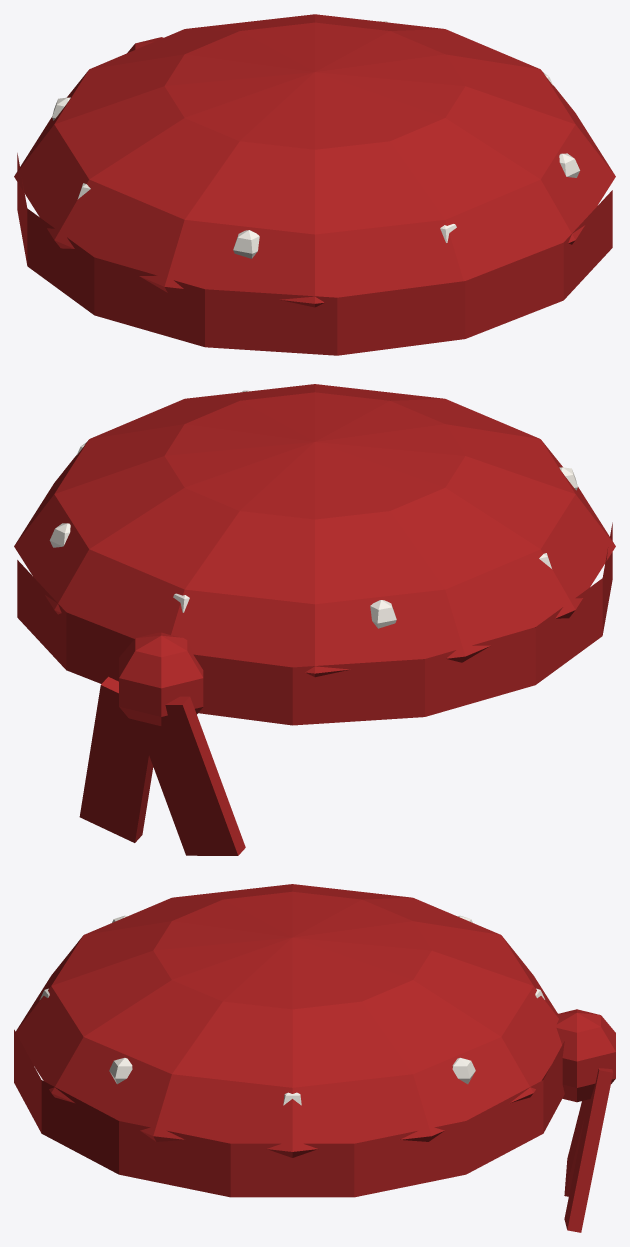
The model's file is disguise_biker_bandana.glb.
The picture shows the model from 3 angles, top to bottom: view 1: azimuth 30°, elevation 25°; view 2: azimuth 150°, elevation 25°; view 3: azimuth 270°, elevation 25°; orthographic projection. The views are drawn at different scales.
Parts seen in each view (by area): view 1: bandana_biker_red, dots_biker_dot; view 2: bandana_biker_red, knot_biker_red, dots_biker_dot; view 3: bandana_biker_red, knot_biker_red, dots_biker_dot.
Boxes of the visible parts, x1,y1,x2,y2 form: bandana_biker_red: [14, 14, 615, 355]; dots_biker_dot: [52, 21, 580, 258]; bandana_biker_red: [14, 384, 615, 725]; knot_biker_red: [79, 632, 245, 855]; dots_biker_dot: [49, 390, 577, 628]; bandana_biker_red: [14, 884, 564, 1197]; knot_biker_red: [541, 1009, 615, 1232]; dots_biker_dot: [40, 915, 544, 1105].
Bounding box in the file's own units: 0.47 × 0.2537 × 0.5079.
